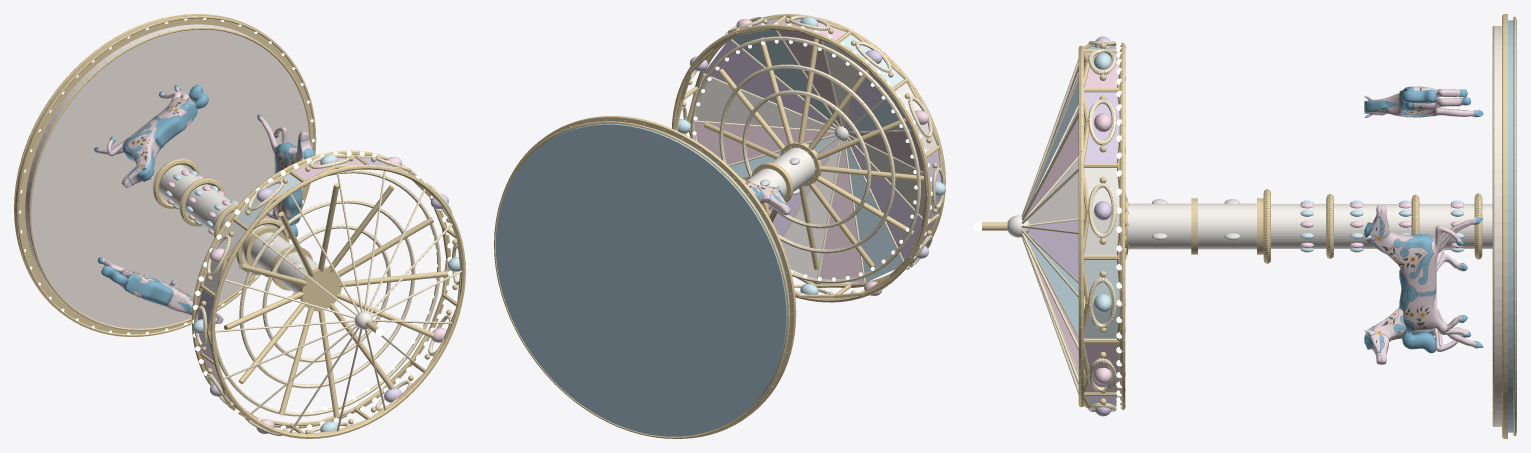
Rendered from dream_carousel_v008.glb.
3 views of the same model, side by side, from view 1: azimuth 30°, elevation 25°; view 2: azimuth 150°, elevation 25°; view 3: azimuth 270°, elevation 25° (orthographic). The views are drawn at different scales.
Visible parts, largest first — view 1: Platform, BaseGoldRim, CanopyPerimeter_3.78, Horse_02_Replacement_v008, BaseTrim_-0.06, BaseTrim_0.075, Horse_03_Replacement_v008, UnderRoofGold_1.75, ColumnCentral, Horse_01_Replacement_v008, UnderRoofGold_2.3, CanopyPerimeter_3.19 (+25 smaller); view 2: BaseLower, BaseGoldRim, CanopyPerimeter_3.19, BaseTrim_-0.22, CanopyRoof_15, CanopyRoof_04, CanopyRoof_03, UnderRoofGold_2.3, CanopyRoof_14, CanopyRoof_05, CanopyRoof_00, UnderRoofGold_1.75 (+28 smaller); view 3: Horse_01_Replacement_v008, ColumnCentral, ColumnExtension_v008, Platform, BaseLower, Horse_02_Replacement_v008, CanopyPerimeter_3.19, Horse_03_Replacement_v008, CanopyPerimeter_3.78, BaseGoldRim, CanopySkirtPanel_11, CanopySkirtPanel_00 (+20 smaller).
Part boxes in pixels (box(x1,y1,x2,y2)): Platform: box(25, 24, 309, 328); BaseGoldRim: box(15, 14, 316, 336); CanopyPerimeter_3.78: box(210, 165, 465, 438); Horse_02_Replacement_v008: box(93, 84, 208, 187); BaseTrim_-0.06: box(17, 16, 315, 336); BaseTrim_0.075: box(29, 27, 311, 330); Horse_03_Replacement_v008: box(97, 257, 223, 323); UnderRoofGold_1.75: box(239, 199, 415, 388); ColumnCentral: box(156, 164, 265, 255); Horse_01_Replacement_v008: box(257, 114, 315, 239); UnderRoofGold_2.3: box(215, 169, 440, 416); CanopyPerimeter_3.19: box(191, 150, 450, 428); BaseLower: box(496, 123, 789, 436); BaseGoldRim: box(503, 116, 796, 438); CanopyPerimeter_3.19: box(672, 24, 930, 302); BaseTrim_-0.22: box(494, 121, 789, 438); CanopyRoof_15: box(696, 75, 834, 130); CanopyRoof_04: box(819, 141, 863, 282); CanopyRoof_03: box(781, 141, 840, 278); UnderRoofGold_2.3: box(691, 36, 920, 283); CanopyRoof_14: box(704, 40, 835, 128); CanopyRoof_05: box(845, 141, 902, 282); CanopyRoof_00: box(695, 122, 834, 164); UnderRoofGold_1.75: box(719, 64, 895, 253); Horse_01_Replacement_v008: box(1364, 205, 1483, 353); ColumnCentral: box(1271, 204, 1492, 248); ColumnExtension_v008: box(1128, 203, 1256, 249); Platform: box(1494, 26, 1501, 426); BaseLower: box(1508, 20, 1516, 432); Horse_02_Replacement_v008: box(1364, 86, 1483, 117); CanopyPerimeter_3.19: box(1119, 42, 1125, 410); Horse_03_Replacement_v008: box(1364, 249, 1483, 364); CanopyPerimeter_3.78: box(1078, 45, 1083, 407); BaseGoldRim: box(1503, 14, 1507, 438); CanopySkirtPanel_11: box(1084, 168, 1119, 254); CanopySkirtPanel_00: box(1084, 260, 1119, 338).
Bounding box in the file's own units: 6.08 × 6.08 × 7.77.
Materials: 25 (3 with a texture image).
